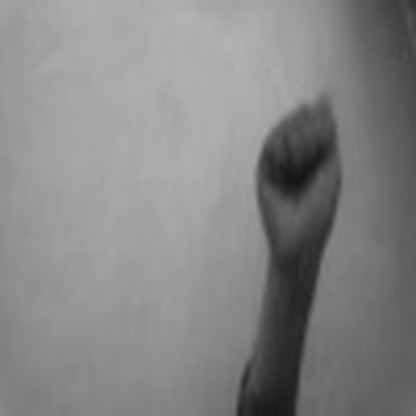a: (249, 85, 355, 272)
